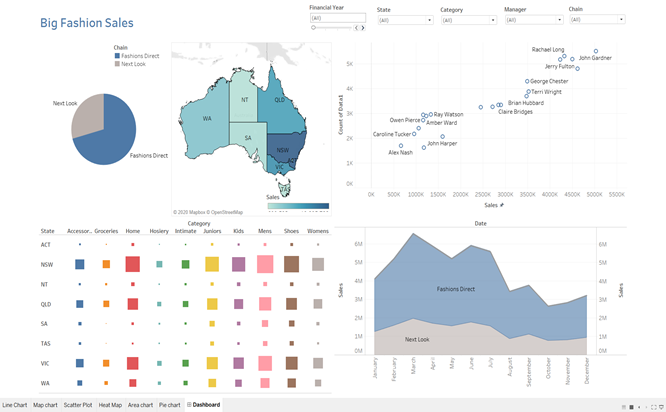

What the dashboard file says about the page in this screenshot:
{"tool":"tableau","page":{"name":"Dashboard","canvas":[1000,1000],"units":"permille","ordinal":0},"visuals":[{"type":"worksheet","box":[0,0,1000,1000]},{"type":"worksheet","param":"horz","box":[4.8,8.8,990.3,982.4]},{"type":"worksheet","param":"horz","box":[4.8,8.8,990.3,982.4]},{"type":"worksheet","param":"horz","box":[4.8,8.8,990.3,982.4]},{"type":"worksheet","param":"horz","box":[4.8,8.8,990.3,982.4]},{"type":"worksheet","param":"horz","box":[4.8,8.8,990.3,982.4]},{"type":"worksheet","box":[4.8,8.8,990.3,982.4]},{"type":"worksheet","box":[4.8,8.8,990.3,94.4]},{"type":"worksheet","title":"Pie chart","mark":"Pie","param":"[federated.0gi9xce0xpn2hs0zzwra11fz3pjh].[none:Financial Year:nk]","box":[460.5,8.8,96.6,84.5]},{"type":"worksheet","title":"Area chart","mark":"Area","rows":["Sales","Sales"],"cols":["Month"],"param":"[federated.0gi9xce0xpn2hs0zzwra11fz3pjh].[none:Chain:nk]","box":[895.6,12.1,96.6,58.2]},{"type":"worksheet","title":"Scatter Plot","mark":"Automatic","rows":["Data_D3F605C816554570893139955D1F2853"],"cols":["Sales"],"param":"[federated.0gi9xce0xpn2hs0zzwra11fz3pjh].[none:Manager:nk]","box":[787,13.2,101.4,59.3]},{"type":"worksheet","title":"Map chart","mark":"Automatic","param":"[federated.0gi9xce0xpn2hs0zzwra11fz3pjh].[none:State:nk]","box":[573.9,14.3,96.6,56]},{"type":"worksheet","title":"Heat Map","mark":"Automatic","rows":["State"],"cols":["Category"],"param":"[federated.0gi9xce0xpn2hs0zzwra11fz3pjh].[none:Category:nk]","box":[680.1,14.3,96.6,58.2]},{"type":"worksheet","param":"horz","box":[4.8,103.2,990.3,888]},{"type":"worksheet","box":[4.8,103.2,990.3,888]},{"type":"worksheet","title":"Pie chart","mark":"Pie","box":[4.8,103.2,222.1,444]},{"type":"worksheet","title":"Map chart","mark":"Automatic","box":[226.9,103.2,273.1,444]},{"type":"worksheet","title":"Scatter Plot","mark":"Automatic","rows":["Data_D3F605C816554570893139955D1F2853"],"cols":["Sales"],"box":[500,103.2,495.2,444]},{"type":"worksheet","title":"Pie chart","mark":"Pie","param":"[federated.0gi9xce0xpn2hs0zzwra11fz3pjh].[none:Chain:nk]","box":[132.8,109.8,84.5,70.2]},{"type":"worksheet","title":"Map chart","mark":"Automatic","param":"[federated.0gi9xce0xpn2hs0zzwra11fz3pjh].[sum:Sales:qk]","box":[388.7,485.2,107.4,47.2]},{"type":"worksheet","title":"Heat Map","mark":"Automatic","rows":["State"],"cols":["Category"],"box":[4.8,547.2,495.2,444]},{"type":"worksheet","title":"Area chart","mark":"Area","rows":["Sales","Sales"],"cols":["Month"],"box":[500,547.2,495.2,444]}]}

Visuals, with their boxes on the dashboard's canvas, which has no fixed pixel size, in thousandths of its width and height (x1, y1, x2, y2). These are canvas units, not pixel positions in the 666x412 screenshot, which may show the page scaled, cropped or inside an application window:
worksheet: {"x1": 0, "y1": 0, "x2": 1000, "y2": 1000}
worksheet: {"x1": 5, "y1": 9, "x2": 995, "y2": 991}
worksheet: {"x1": 5, "y1": 9, "x2": 995, "y2": 991}
worksheet: {"x1": 5, "y1": 9, "x2": 995, "y2": 991}
worksheet: {"x1": 5, "y1": 9, "x2": 995, "y2": 991}
worksheet: {"x1": 5, "y1": 9, "x2": 995, "y2": 991}
worksheet: {"x1": 5, "y1": 9, "x2": 995, "y2": 991}
worksheet: {"x1": 5, "y1": 9, "x2": 995, "y2": 103}
"Pie chart" worksheet (Pie marks): {"x1": 460, "y1": 9, "x2": 557, "y2": 93}
"Area chart" worksheet (Area marks): {"x1": 896, "y1": 12, "x2": 992, "y2": 70}
"Scatter Plot" worksheet: {"x1": 787, "y1": 13, "x2": 888, "y2": 72}
"Map chart" worksheet: {"x1": 574, "y1": 14, "x2": 670, "y2": 70}
"Heat Map" worksheet: {"x1": 680, "y1": 14, "x2": 777, "y2": 72}
worksheet: {"x1": 5, "y1": 103, "x2": 995, "y2": 991}
worksheet: {"x1": 5, "y1": 103, "x2": 995, "y2": 991}
"Pie chart" worksheet (Pie marks): {"x1": 5, "y1": 103, "x2": 227, "y2": 547}
"Map chart" worksheet: {"x1": 227, "y1": 103, "x2": 500, "y2": 547}
"Scatter Plot" worksheet: {"x1": 500, "y1": 103, "x2": 995, "y2": 547}
"Pie chart" worksheet (Pie marks): {"x1": 133, "y1": 110, "x2": 217, "y2": 180}
"Map chart" worksheet: {"x1": 389, "y1": 485, "x2": 496, "y2": 532}
"Heat Map" worksheet: {"x1": 5, "y1": 547, "x2": 500, "y2": 991}
"Area chart" worksheet (Area marks): {"x1": 500, "y1": 547, "x2": 995, "y2": 991}
